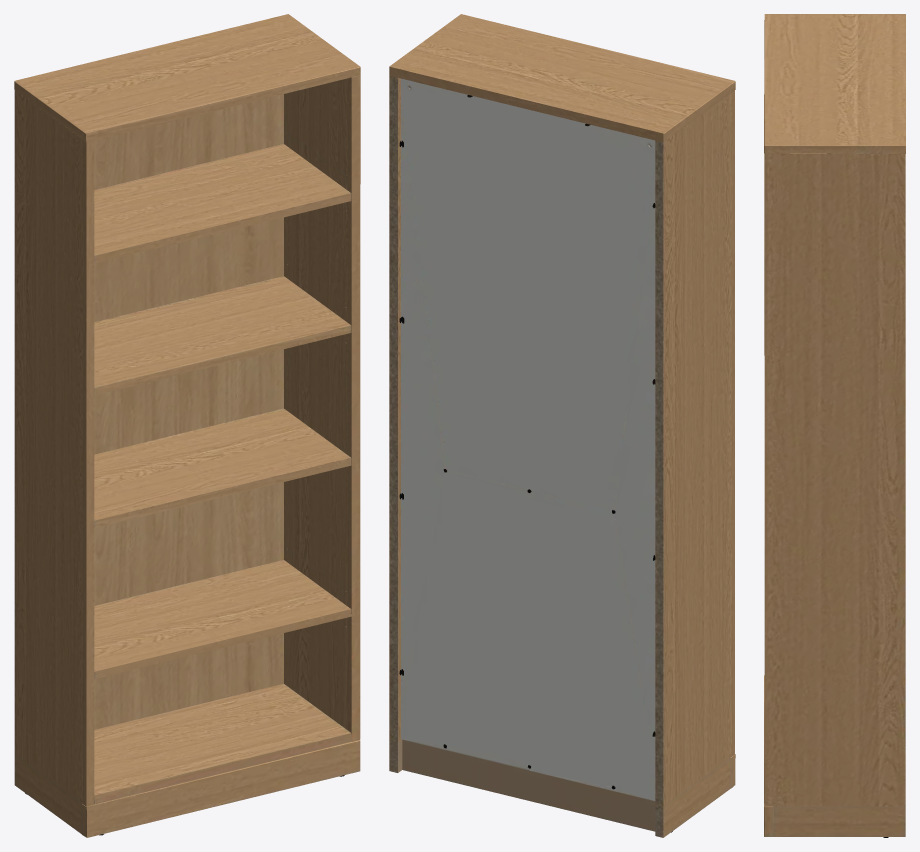
The picture shows the model from 3 angles, left to right: view 1: azimuth 30°, elevation 25°; view 2: azimuth 150°, elevation 25°; view 3: azimuth 270°, elevation 25°; orthographic projection.
Parts seen in each view (by area): view 1: ASY_ART_70528461_S01_NV01; view 2: ASY_ART_70528461_S01_NV01; view 3: ASY_ART_70528461_S01_NV01.
Boxes of the visible parts, <box> form: ASY_ART_70528461_S01_NV01: <box>14,14,360,837</box>; ASY_ART_70528461_S01_NV01: <box>389,14,735,837</box>; ASY_ART_70528461_S01_NV01: <box>764,14,905,837</box>.
Bounding box in the file's own units: 0.8171 × 2 × 0.372.
1 material, 1 textured.
